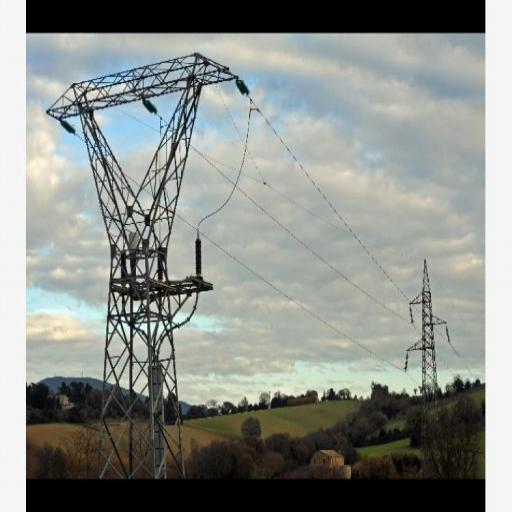ss_4: (404, 258, 451, 390)
wt_5: (43, 50, 241, 482)
